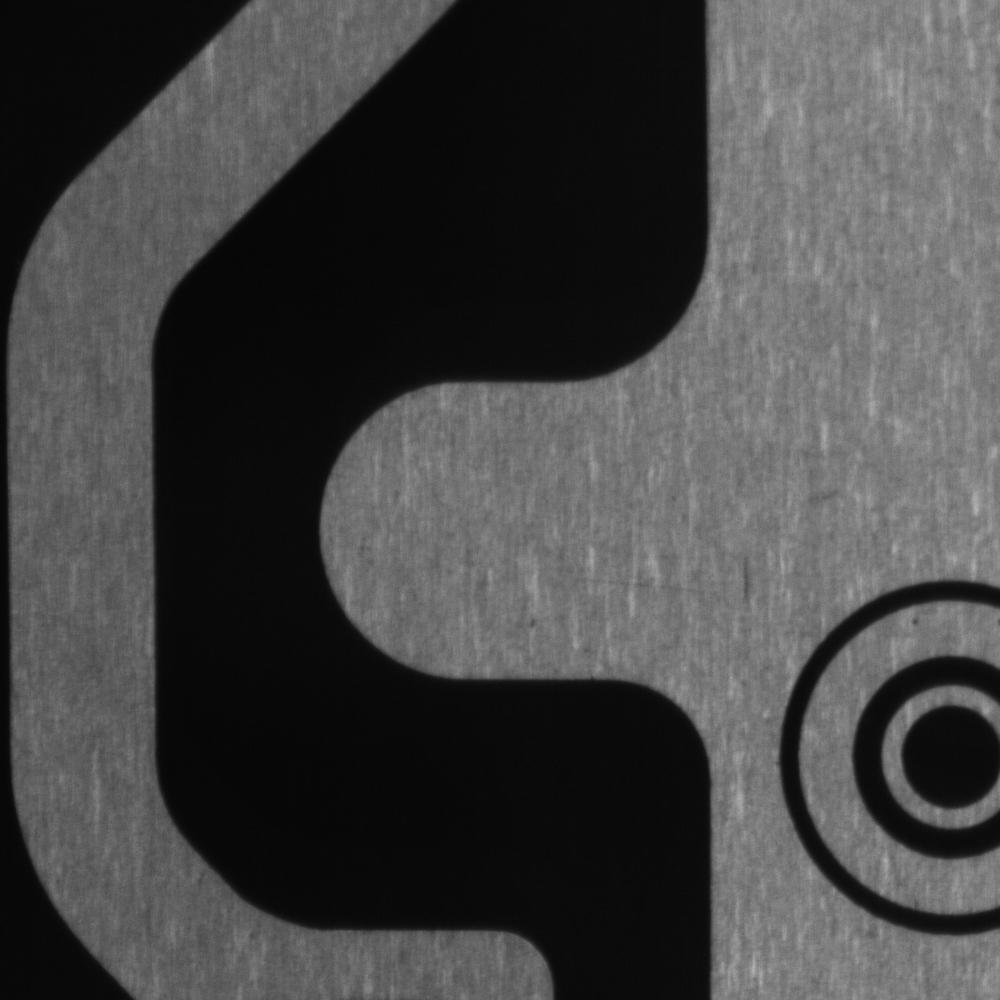Scar: (565, 561, 719, 604)
